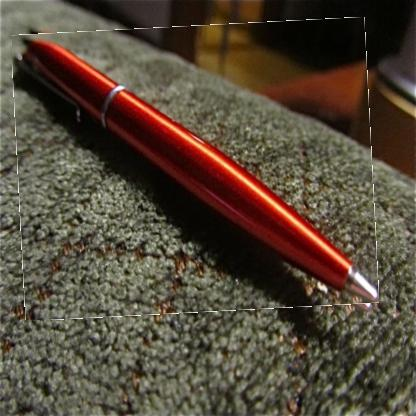Pen: (15, 21, 375, 316)
